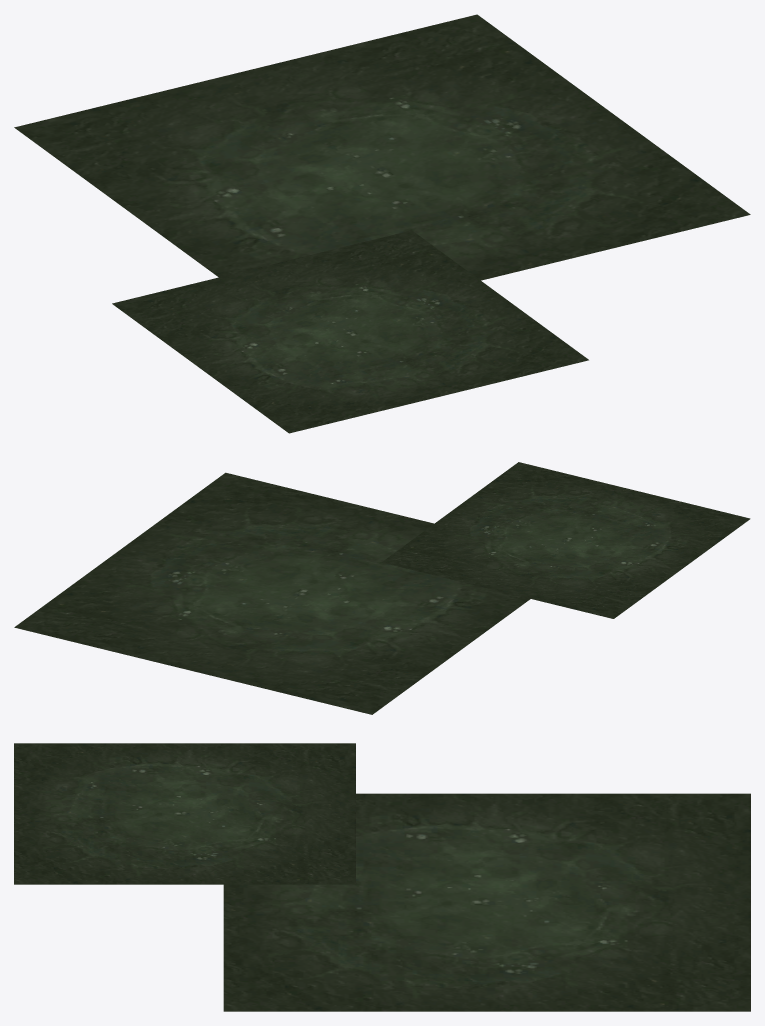
File: stemple_floor_decal_02.fbx
3 views of the same model, one above another, from view 1: azimuth 30°, elevation 25°; view 2: azimuth 150°, elevation 25°; view 3: azimuth 270°, elevation 25° (orthographic). The views are drawn at different scales.
Parts seen in each view (by area): view 1: obj0.274; view 2: obj0.274; view 3: obj0.274.
Boxes of the visible parts, box(x1,y1,x2,y2) form: obj0.274: box(14, 14, 750, 433); obj0.274: box(14, 462, 750, 714); obj0.274: box(14, 743, 750, 1011).
Size of the model in its own units: 8.31 by 0.001 by 9.65.
